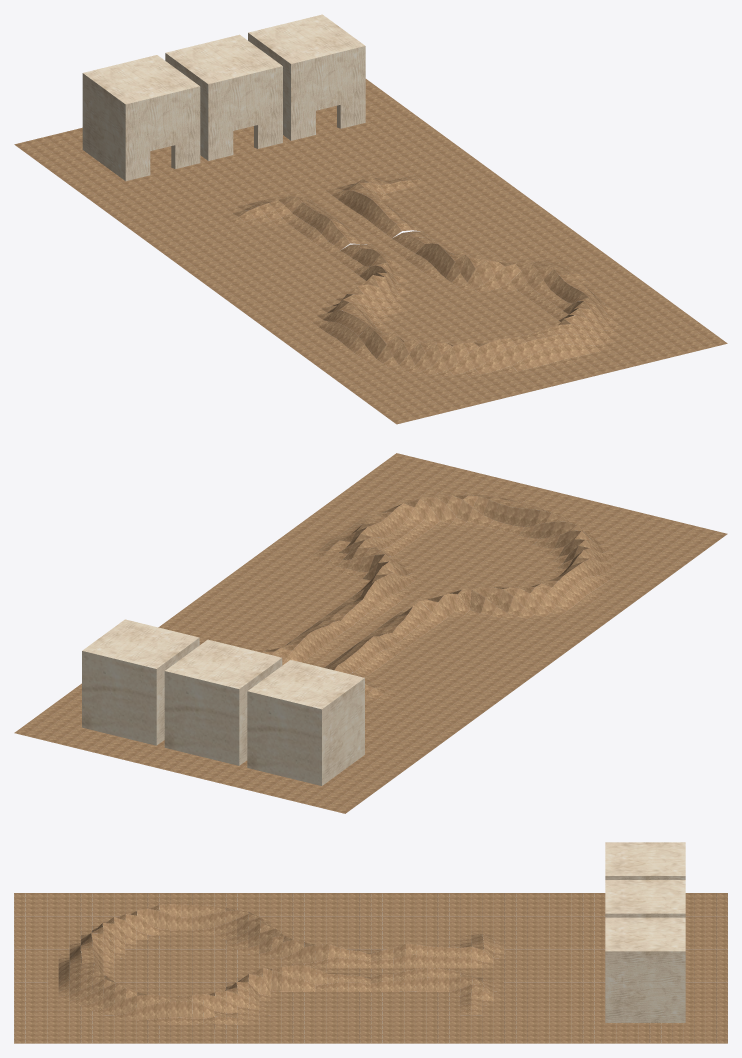
The model's file is pockitworld3flat.glb.
3 renders of one model, top to bottom at view 1: azimuth 30°, elevation 25°; view 2: azimuth 150°, elevation 25°; view 3: azimuth 270°, elevation 25°, orthographic. The views are drawn at different scales.
Parts seen in each view (by area): view 1: Plane, Plane.001, Cube.002, Cube, Cube.001; view 2: Plane, Plane.001, Cube.002, Cube, Cube.001; view 3: Plane, Plane.001, Cube.001, Cube, Cube.002.
Boxes of the visible parts, x1,y1,x2,y2 form: Plane: (205, 203, 727, 424); Plane.001: (14, 79, 535, 284); Cube.002: (82, 55, 200, 181); Cube: (165, 34, 282, 160); Cube.001: (248, 14, 365, 140); Plane: (206, 453, 727, 673); Plane.001: (14, 593, 535, 813); Cube.002: (247, 659, 364, 785); Cube: (164, 639, 282, 765); Cube.001: (82, 619, 199, 745); Plane: (14, 893, 370, 1043); Plane.001: (371, 893, 727, 1043); Cube.001: (605, 917, 685, 1022); Cube: (605, 880, 685, 917); Cube.002: (605, 842, 685, 879).
Size of the model in its own units: 32.05 by 7.21 by 64.1.
Materials: 1 (1 with a texture image).
